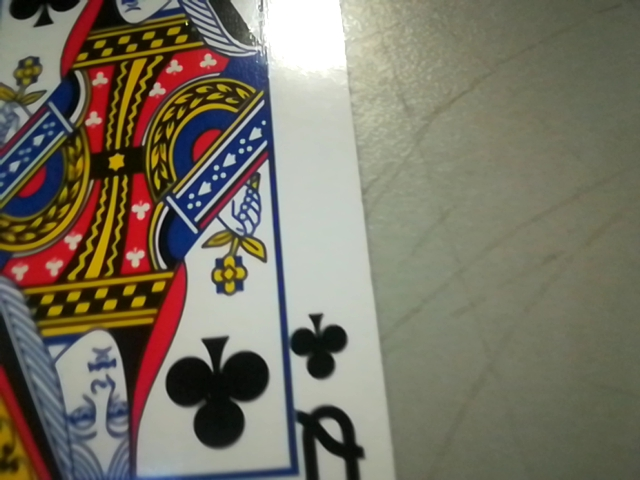mh q: (274, 304, 385, 480)
